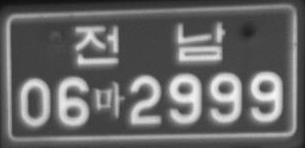0: (19, 77, 51, 128)
2: (129, 74, 162, 124)
6: (56, 76, 90, 127)
9: (249, 70, 285, 123), (168, 71, 203, 125), (209, 71, 243, 124)
마: (94, 81, 125, 119)
전남_D: (75, 21, 226, 64)
